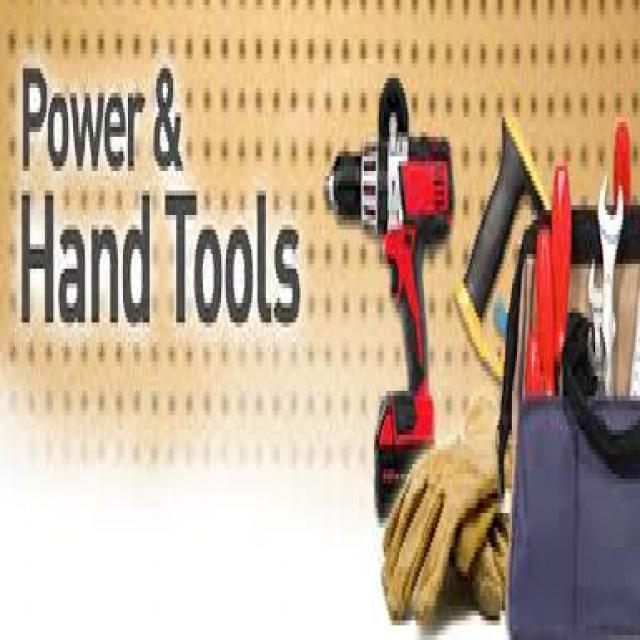drill: (322, 120, 456, 530)
wrench: (594, 169, 628, 420)
